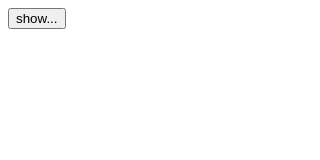
it: <Togglable /> › after clicking the button, children are displayed
The image size is (320, 160).
Click the button "show...": (37, 18) [8,8,66,29]
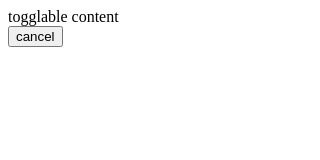
expect the text "togglable content" is shown: met, box [8,8,119,25]
